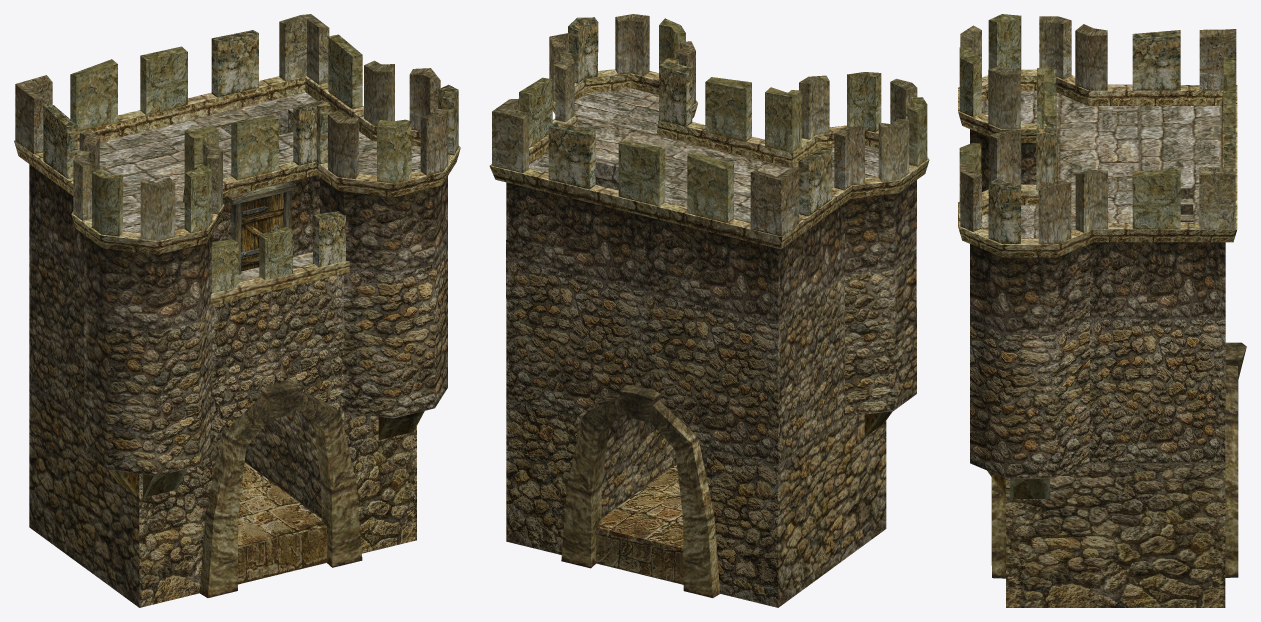
Rendered from hrz54.glb.
3 views of the same model, side by side, from view 1: azimuth 30°, elevation 25°; view 2: azimuth 150°, elevation 25°; view 3: azimuth 270°, elevation 25° (orthographic).
Parts seen in each view (by area): view 1: hrz54-col; view 2: hrz54-col; view 3: hrz54-col.
Boxes of the visible parts, x1,y1,x2,y2 form: hrz54-col: (14,14,460,607); hrz54-col: (489,14,929,607); hrz54-col: (958,14,1246,607).
Bounding box in the file's own units: 10.4 × 12.22 × 7.24.
Materials: 16 (16 with a texture image).
